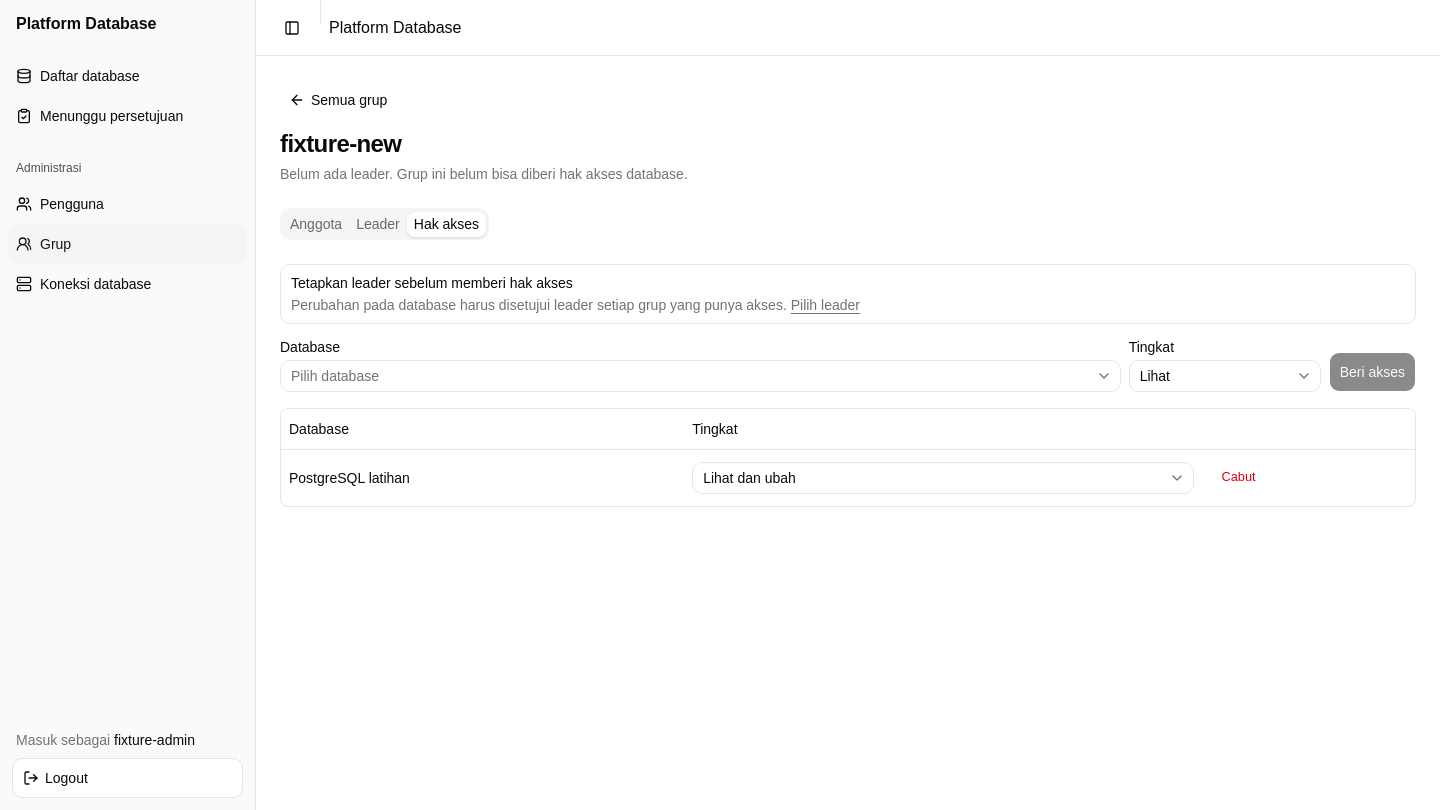
group administration › warns that a group without a leader cannot get access and shows the refusal
Expected: the text "Tetapkan leader sebelum memberi hak akses" is shown, [291,275,573,291]
Step 1. Click the dropdown labelled "database" → click(335, 376), box [280,360,1121,392]
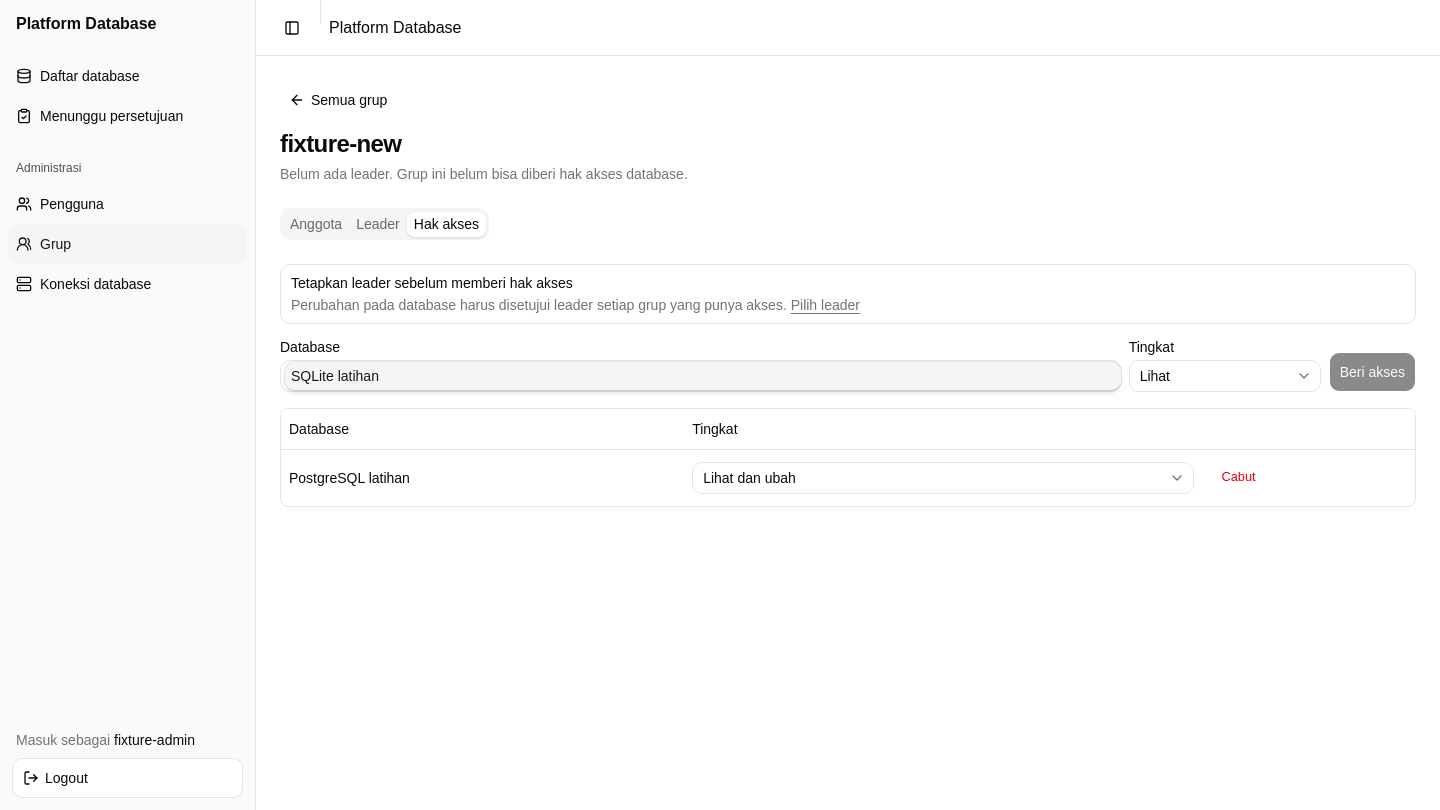
Step 2. Click the option "SQLite latihan" → click(335, 376), box [285,362,1121,390]
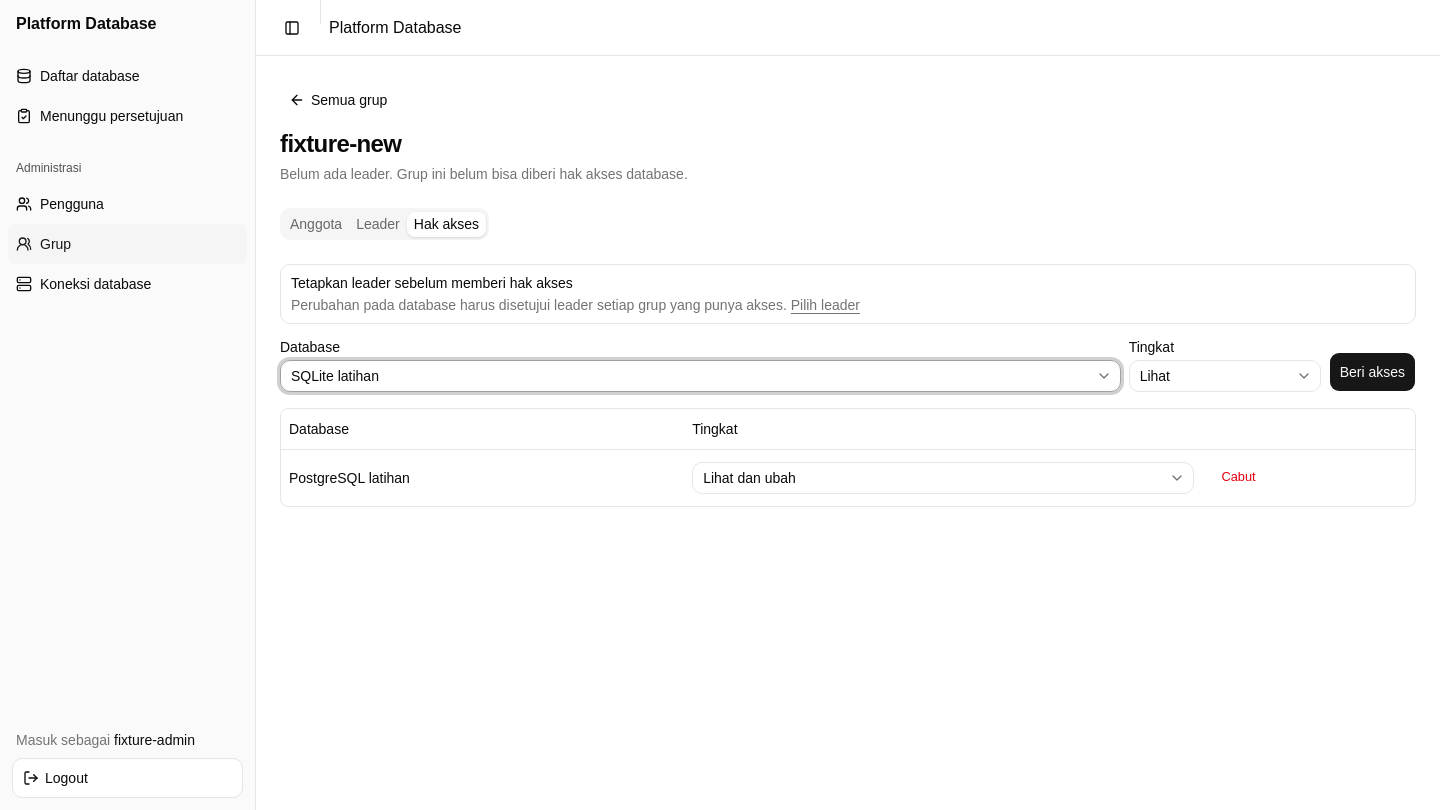
Step 3. Click the button "Beri akses" → click(1372, 372), box [1329,352,1416,392]
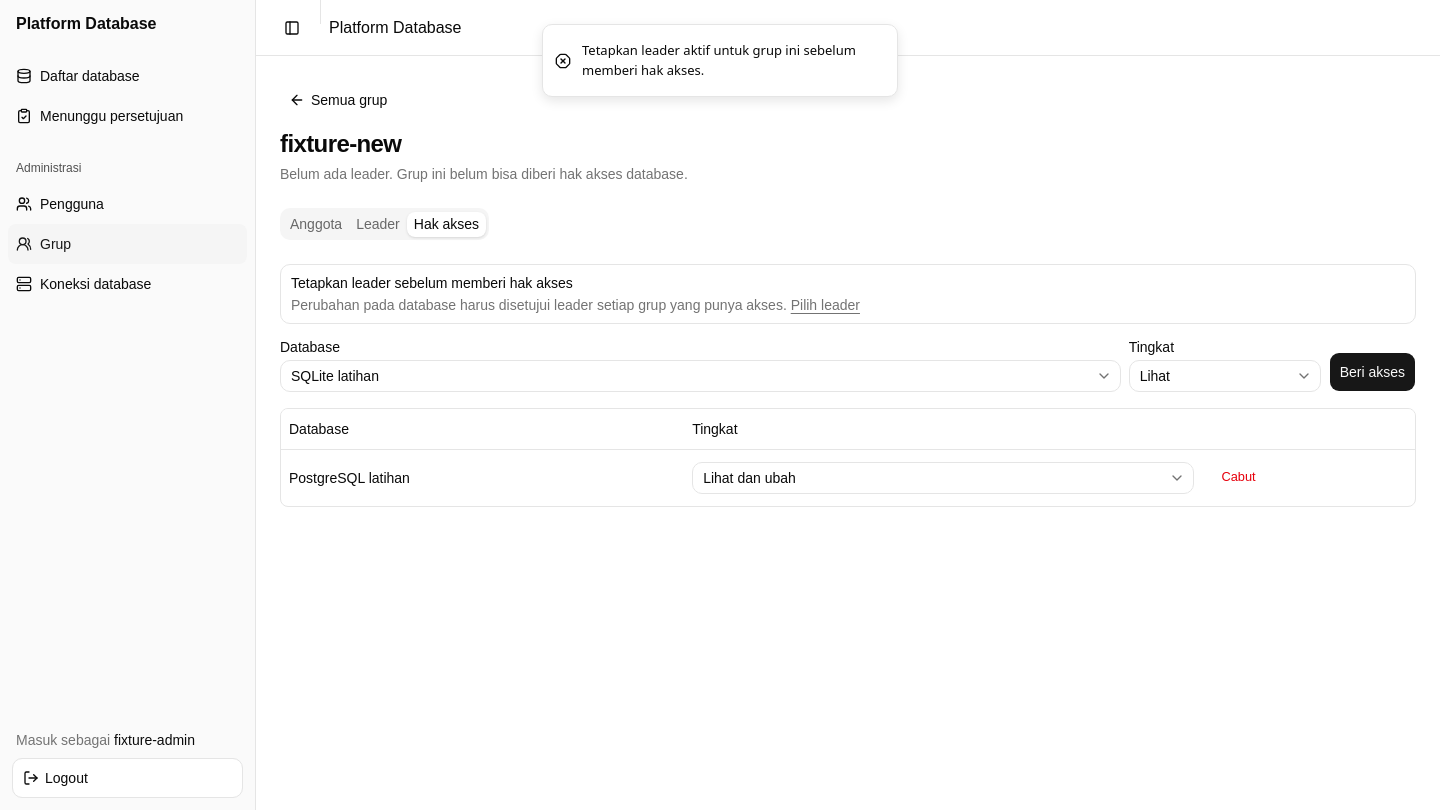
Now the text "Tetapkan leader aktif untuk grup ini sebelum memberi hak akses." is shown, box [582,41,881,80]
